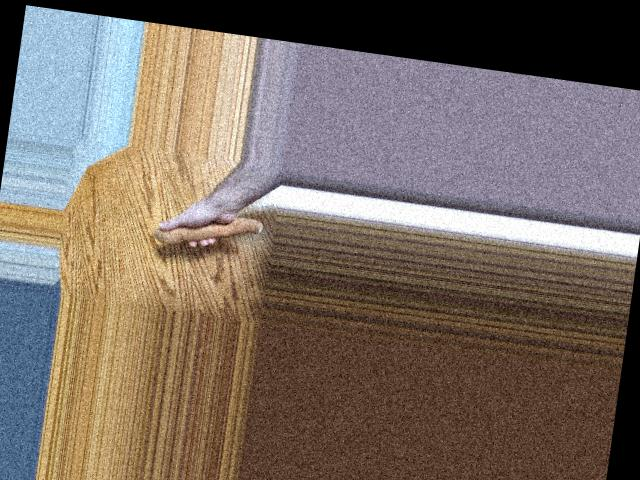sweet_potato: (153, 204, 264, 256)
